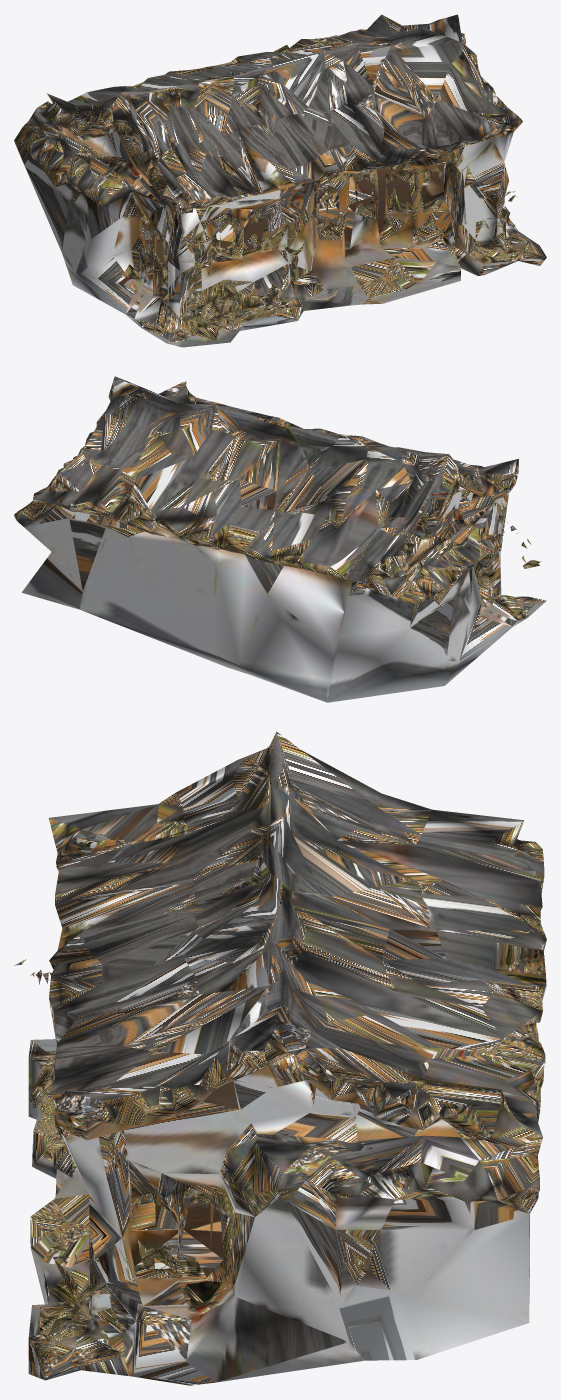
File: lib_courtyard.far.glb
3 renders of one model, top to bottom at view 1: azimuth 30°, elevation 25°; view 2: azimuth 150°, elevation 25°; view 3: azimuth 270°, elevation 25°, orthographic. The views are drawn at different scales.
Bounding box in the file's own units: 1.87 × 0.9244 × 1.25.
1 material, 1 textured.
